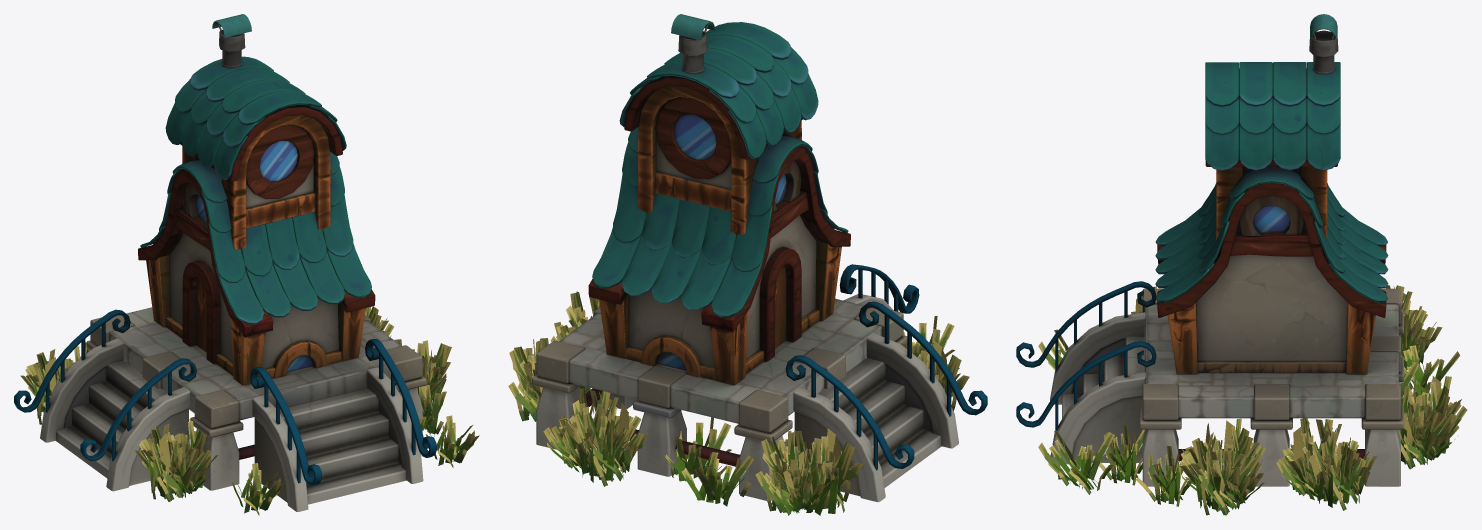
3 views of the same model, side by side, from view 1: azimuth 30°, elevation 25°; view 2: azimuth 150°, elevation 25°; view 3: azimuth 270°, elevation 25° (orthographic). The views are drawn at different scales.
Parts seen in each view (by area): view 1: house:Box002, Box041, house:roof001, house:Box041, house:ceiling205, grass_variant_4, house:Rectangle004, house:ceiling201, house:ceiling101, house:Donut005, house:window01Red, house:Donut001 (+36 smaller); view 2: house:Box002, house:roof001, grass_variant_7, house:Box041, grass_variant_3, house:ceiling205, house:Rectangle003, house:ceiling201, house:window02Red, house:ceiling104, house:Donut005, house:roof (+42 smaller); view 3: house:roof001, house:Box002, grass_variant_5, grass_variant_6, house:roof002, house:ceiling201, grass_variant_3, house:ceiling101, house:ceiling103, house:ceiling102, house:ceiling104, Donut001 (+30 smaller).
Part boxes in pixels (x1,y1,x2,y2): house:Box002: (109, 307, 401, 420); Box041: (280, 388, 406, 504); house:roof001: (169, 195, 338, 371); house:Box041: (56, 360, 167, 478); house:ceiling205: (140, 160, 263, 324); grass_variant_4: (135, 417, 217, 501); house:Rectangle004: (221, 115, 330, 250); house:ceiling201: (322, 152, 371, 297); house:ceiling101: (214, 91, 346, 179); house:Donut005: (106, 387, 189, 491); house:window01Red: (246, 125, 314, 199); house:Donut001: (40, 338, 123, 442); house:Box002: (559, 298, 882, 423); house:roof001: (628, 174, 816, 370); grass_variant_7: (755, 428, 863, 515); house:Box041: (818, 357, 941, 487); grass_variant_3: (543, 388, 647, 486); house:ceiling205: (711, 136, 848, 317); house:Rectangle003: (637, 86, 758, 235); house:ceiling201: (592, 127, 646, 288); house:window02Red: (655, 97, 731, 179); house:ceiling104: (619, 61, 766, 158); house:Donut005: (866, 333, 958, 448); house:roof: (701, 145, 850, 331); house:roof001: (1196, 206, 1347, 360); house:Box002: (1144, 304, 1398, 418); grass_variant_5: (1276, 418, 1377, 510); grass_variant_6: (1180, 418, 1265, 515); house:roof002: (1157, 182, 1386, 317); house:ceiling201: (1155, 167, 1387, 302); grass_variant_3: (1398, 375, 1467, 469); house:ceiling101: (1205, 62, 1238, 170); house:ceiling103: (1273, 62, 1306, 170); house:ceiling102: (1239, 62, 1272, 170); house:ceiling104: (1307, 62, 1340, 170); Donut001: (1050, 312, 1145, 404).
Size of the model in its own units: 2.21 by 2.18 by 2.13.
17 materials, 17 textured.
